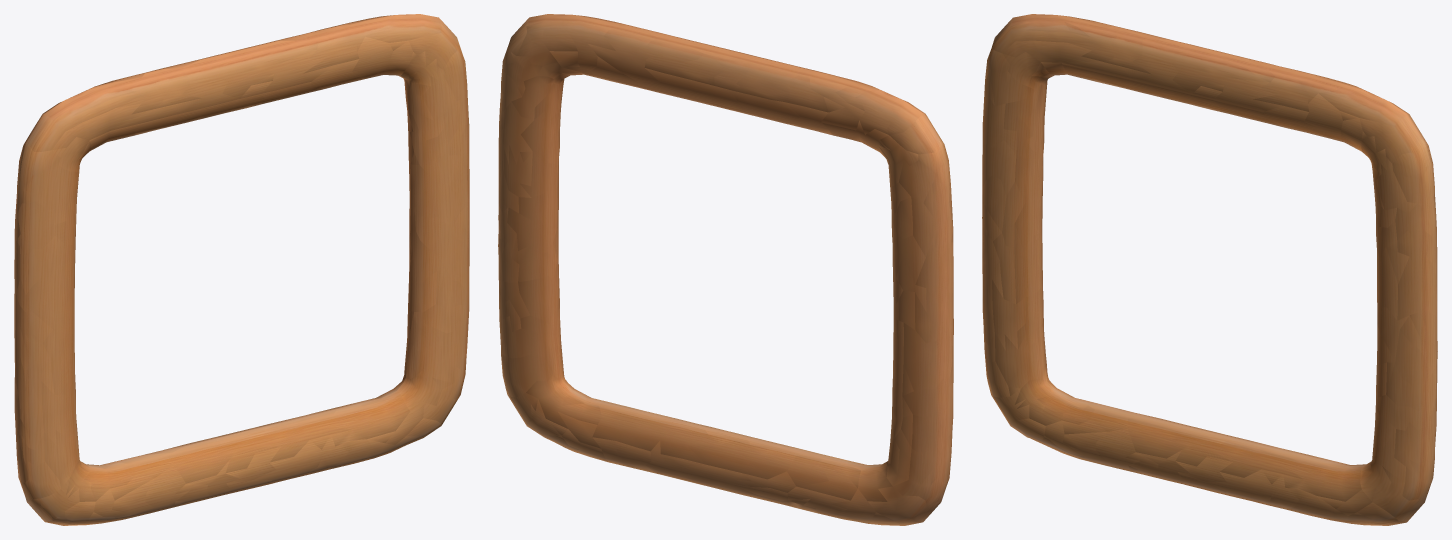
File: window_large.glb
3 views of the same model, side by side, from view 1: azimuth 30°, elevation 25°; view 2: azimuth 150°, elevation 25°; view 3: azimuth 330°, elevation 25° (orthographic).
Visible parts, largest first — view 1: Mesh_0; view 2: Mesh_0; view 3: Mesh_0.
Part boxes in pixels (x1,y1,x2,y2): Mesh_0: (14,14,469,525); Mesh_0: (498,14,953,525); Mesh_0: (982,14,1437,525).
Bounding box in the file's own units: 1.92 × 1.78 × 0.1397.
1 material, 1 textured.
